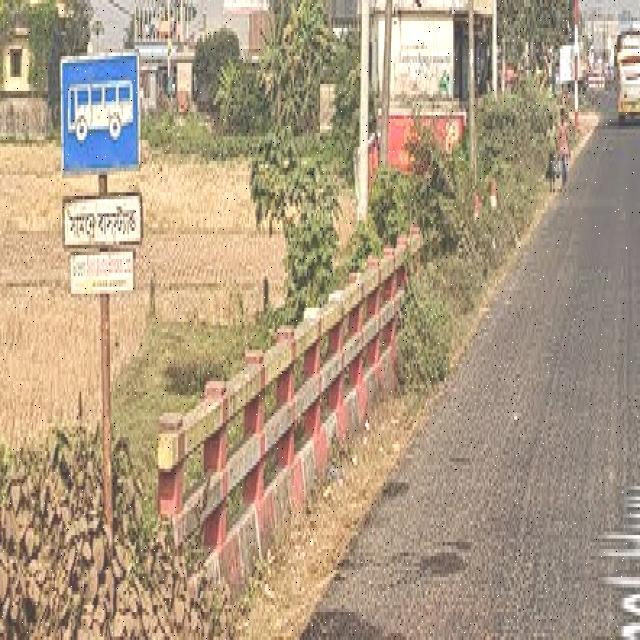Ahead-the-bus-station: (55, 51, 173, 300)
